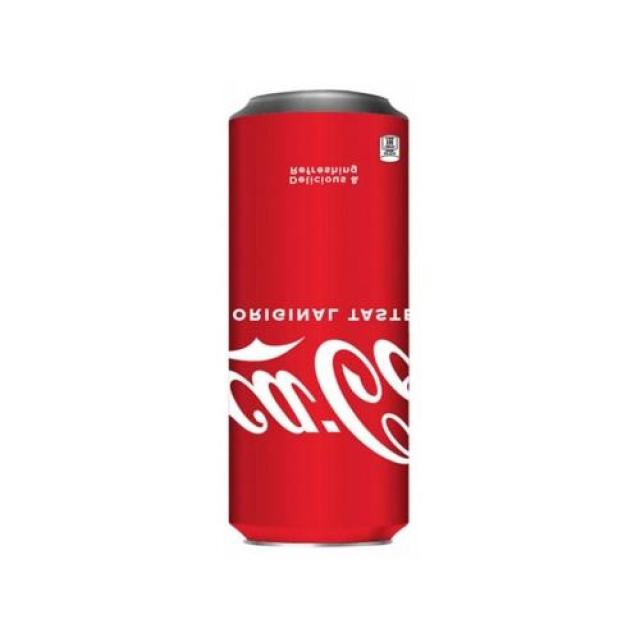coca-cola: (220, 83, 415, 554)
